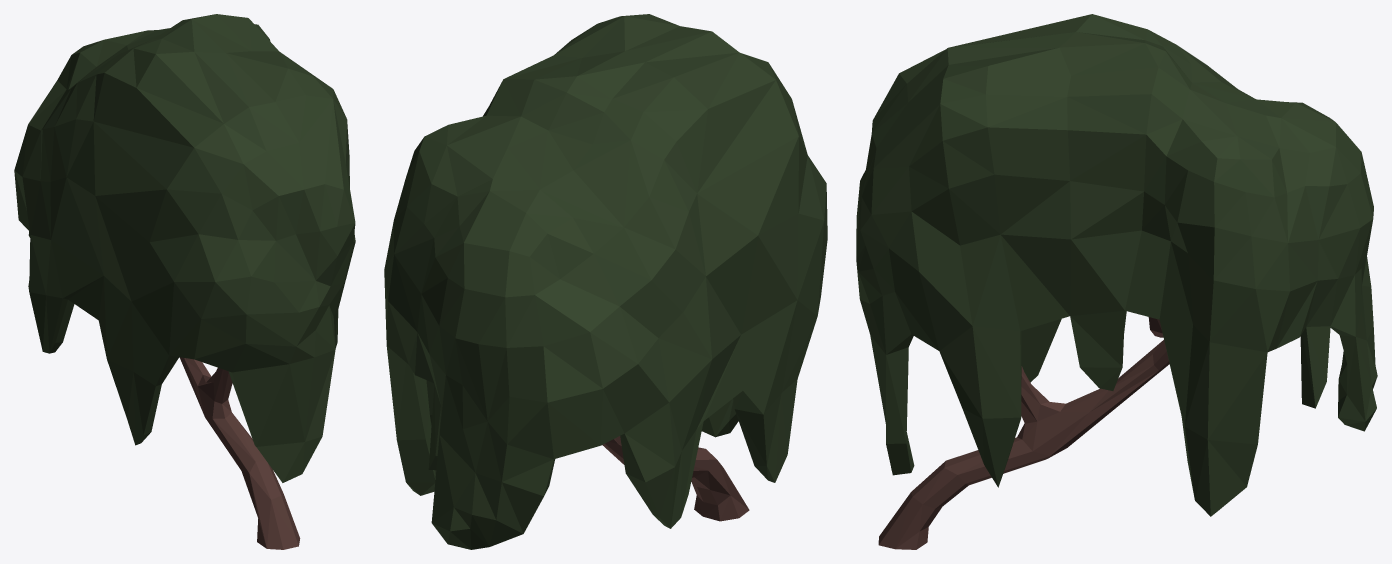
The model's file is Willow_2.glb.
3 renders of one model, left to right at view 1: azimuth 30°, elevation 25°; view 2: azimuth 150°, elevation 25°; view 3: azimuth 270°, elevation 25°, orthographic. The views are drawn at different scales.
Parts seen in each view (by area): view 1: Willow_2_Cube.011; view 2: Willow_2_Cube.011; view 3: Willow_2_Cube.011.
Boxes of the visible parts, box(x1,y1,x2,y2) form: Willow_2_Cube.011: box(14, 14, 355, 549); Willow_2_Cube.011: box(384, 14, 827, 549); Willow_2_Cube.011: box(856, 14, 1377, 549).
Size of the model in its own units: 1.95 by 3.32 by 3.1.
